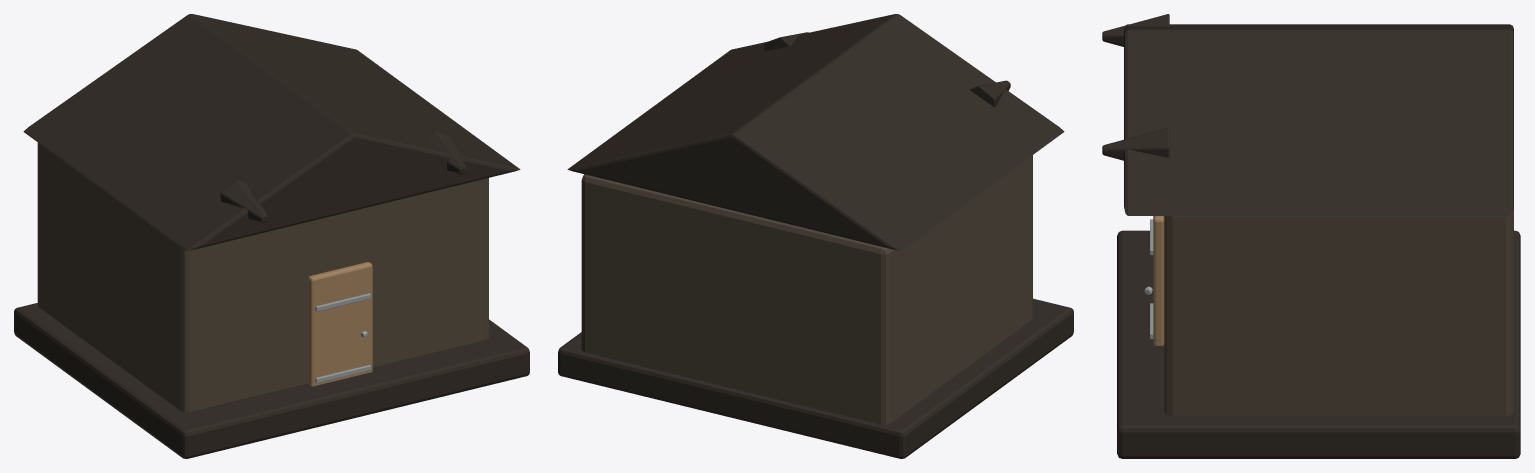
Rendered from crypt.glb.
3 views of the same model, side by side, from view 1: azimuth 30°, elevation 25°; view 2: azimuth 150°, elevation 25°; view 3: azimuth 270°, elevation 25° (orthographic). The views are drawn at different scales.
Parts seen in each view (by area): view 1: CryptBody, CryptRoof, CryptBase, INTERACT_CryptDoor, Gargoyle, Gargoyle.001; view 2: CryptBody, CryptRoof, CryptBase, Gargoyle; view 3: CryptRoof, CryptBody, CryptBase, INTERACT_CryptDoor, Gargoyle.001, Gargoyle.
Boxes of the visible parts, x1,y1,x2,y2 form: CryptBody: (37, 142, 488, 412); CryptRoof: (23, 14, 520, 250); CryptBase: (14, 303, 529, 458); INTERACT_CryptDoor: (308, 262, 372, 386); Gargoyle: (220, 179, 267, 222); Gargoyle.001: (425, 131, 466, 174); CryptBody: (581, 155, 1032, 424); CryptRoof: (567, 14, 1064, 250); CryptBase: (558, 298, 1073, 458); Gargoyle: (969, 80, 1010, 107); CryptRoof: (1124, 24, 1513, 215); CryptBody: (1164, 206, 1513, 416); CryptBase: (1117, 230, 1520, 458); INTERACT_CryptDoor: (1153, 216, 1164, 345); Gargoyle.001: (1102, 127, 1169, 160); Gargoyle: (1102, 14, 1169, 46).
Bounding box in the file's own units: 7 × 5.44 × 6.22.
